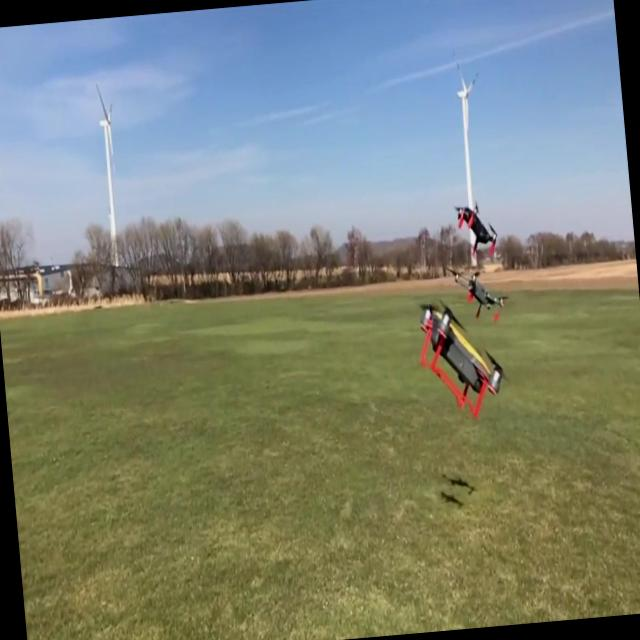drone: (414, 294, 511, 424), (453, 260, 509, 316), (453, 199, 501, 263)
